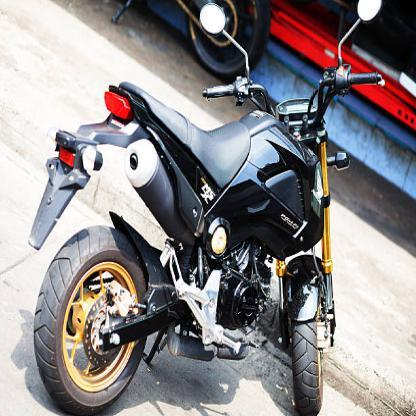Motorcycle: (20, 5, 374, 415)
